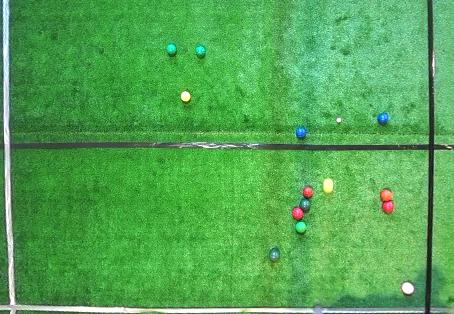blue: (378, 113, 388, 124), (296, 127, 306, 138)
green: (295, 222, 307, 233), (269, 249, 280, 260), (300, 199, 310, 210), (196, 46, 205, 56), (167, 44, 176, 54)
red: (401, 282, 415, 294), (382, 201, 394, 214), (380, 189, 392, 201), (292, 207, 303, 220), (303, 187, 313, 198)
vline: (424, 1, 454, 313), (0, 1, 20, 313)
white: (337, 118, 341, 122)
yellow: (323, 178, 334, 193), (181, 91, 191, 102)
